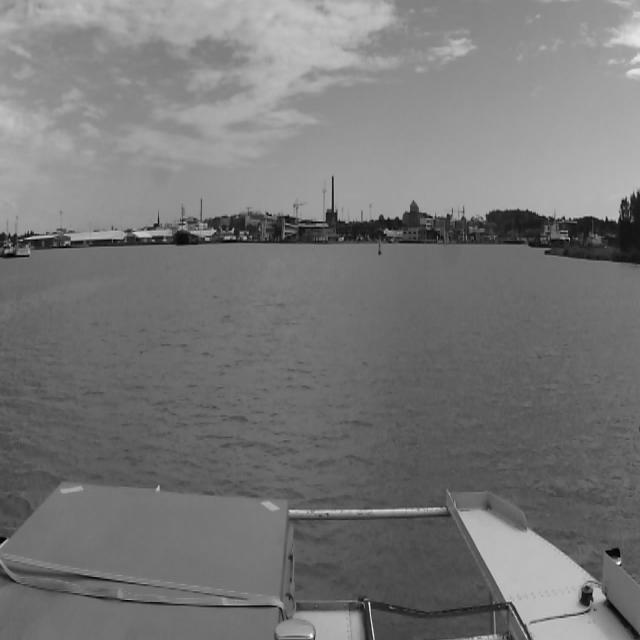ship: (528, 218, 570, 246), (177, 208, 189, 243)
